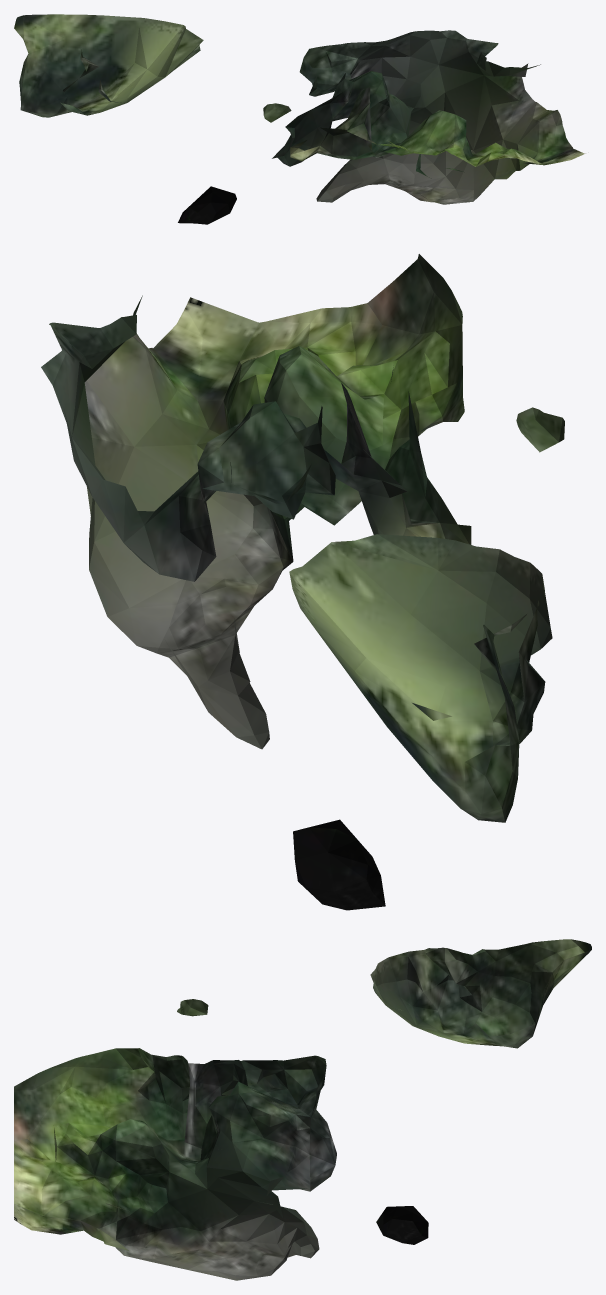
3 views of the same model, one above another, from view 1: azimuth 30°, elevation 25°; view 2: azimuth 150°, elevation 25°; view 3: azimuth 270°, elevation 25° (orthographic). The views are drawn at different scales.
Size of the model in its own units: 42.02 by 19.59 by 45.39.
Materials: 2 (2 with a texture image).
